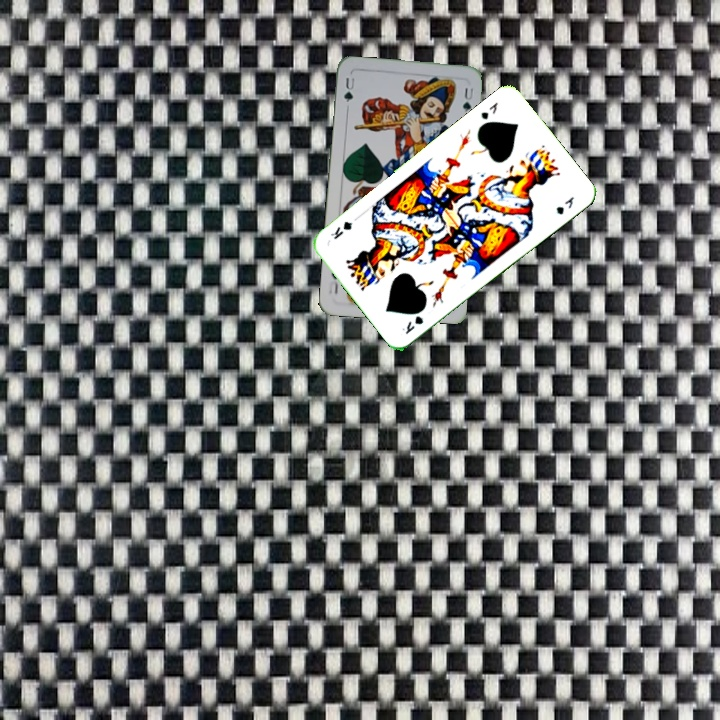GK: (398, 312, 426, 337), (477, 98, 501, 122)
GU: (340, 73, 357, 105)
